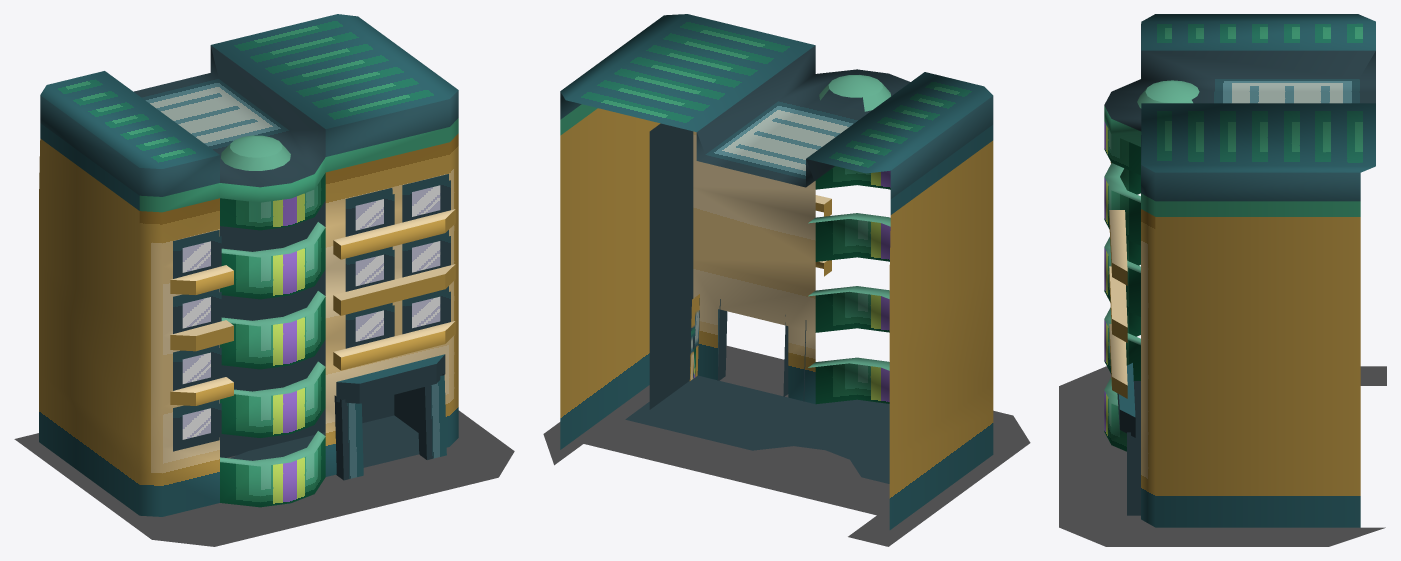
File: Celadon Condominiums.obj
The picture shows the model from 3 angles, left to right: view 1: azimuth 30°, elevation 25°; view 2: azimuth 150°, elevation 25°; view 3: azimuth 270°, elevation 25°; orthographic projection. The views are drawn at different scales.
Parts seen in each view (by area): view 1: polygon2, polygon0, polygon1; view 2: polygon2, polygon0; view 3: polygon2, polygon0.
Boxes of the visible parts, box(x1,y1,x2,y2) form: polygon2: box(39, 14, 458, 516); polygon0: box(14, 410, 514, 546); polygon1: box(182, 185, 440, 439); polygon2: box(560, 14, 993, 529); polygon0: box(543, 345, 1030, 546); polygon2: box(1104, 14, 1375, 527); polygon0: box(1059, 366, 1386, 546).
Size of the model in its own units: 109 by 101 by 83.73.
Materials: 3 (3 with a texture image).
